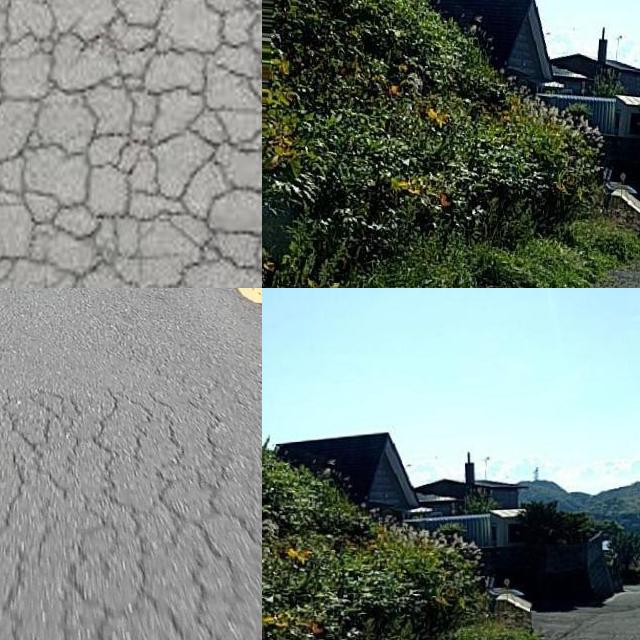Retak Buaya: (0, 0, 262, 288), (0, 395, 262, 640)
